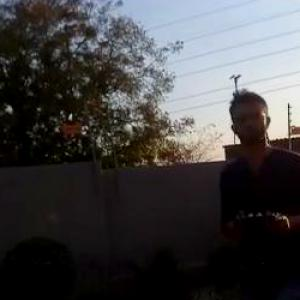follow: (215, 81, 299, 299)
